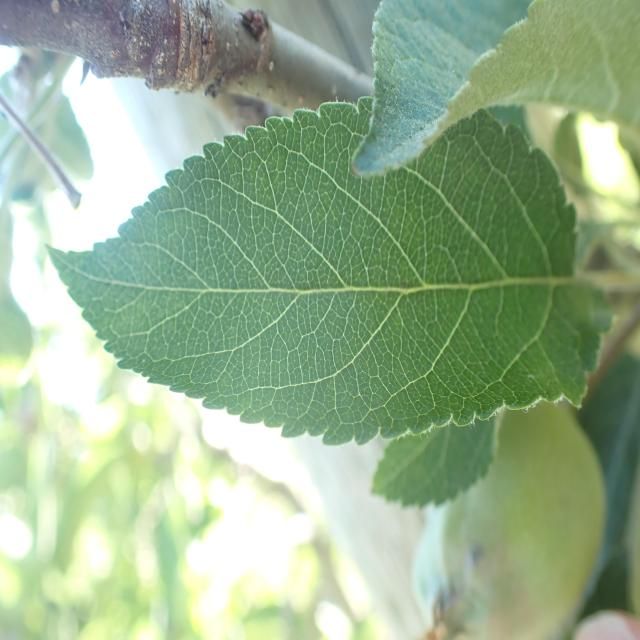healthy: (47, 94, 613, 447), (352, 0, 640, 178)
